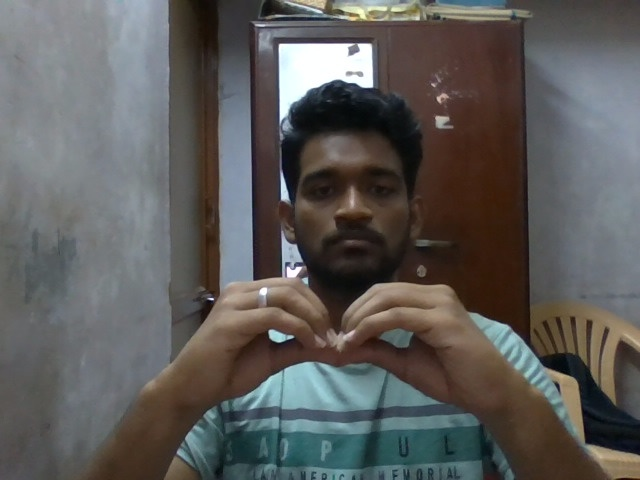B: (132, 272, 550, 447)
